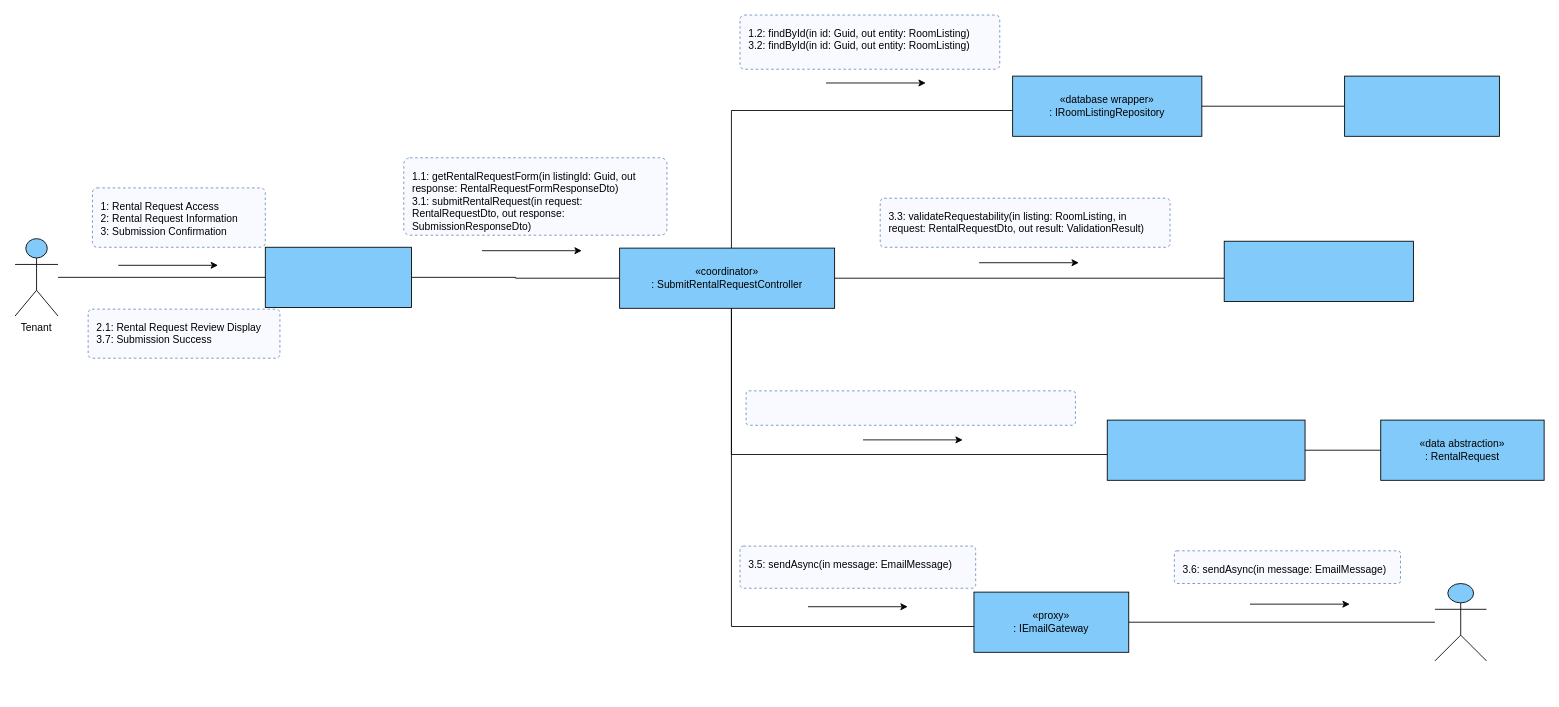
Image size: 1559x707. Some labels were removed from this diagram. The box of each missing label's shape, as (x1, y1, x2, y2) in pixels:
3.4: save(in entity: RentalRequest, out persisted: RentalRequest): (745, 390, 1075, 425)
Email Provider: (1434, 583, 1487, 661)
«business logic» : RentalRequestLogic: (1223, 240, 1413, 301)
«data abstraction» : RoomListing: (1344, 75, 1499, 136)
«database wrapper» : IRentalRequestRepository: (1106, 419, 1305, 480)
«user interaction» : TenantUI: (264, 246, 412, 307)
